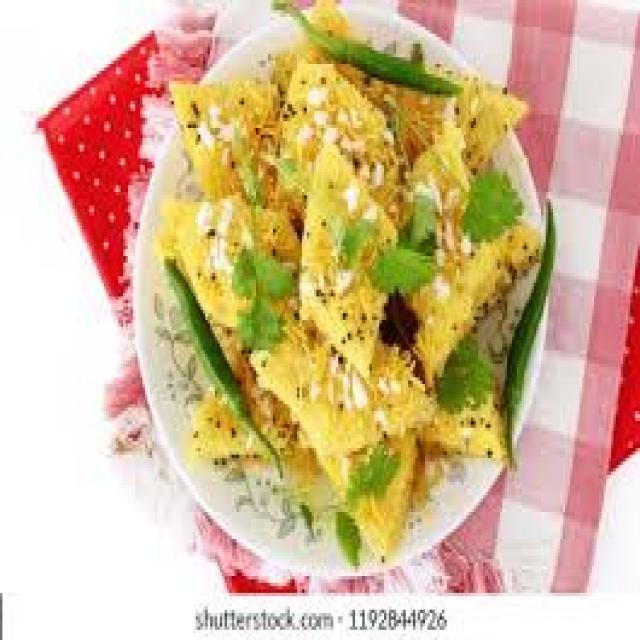DHOKLA: (158, 0, 542, 575)
